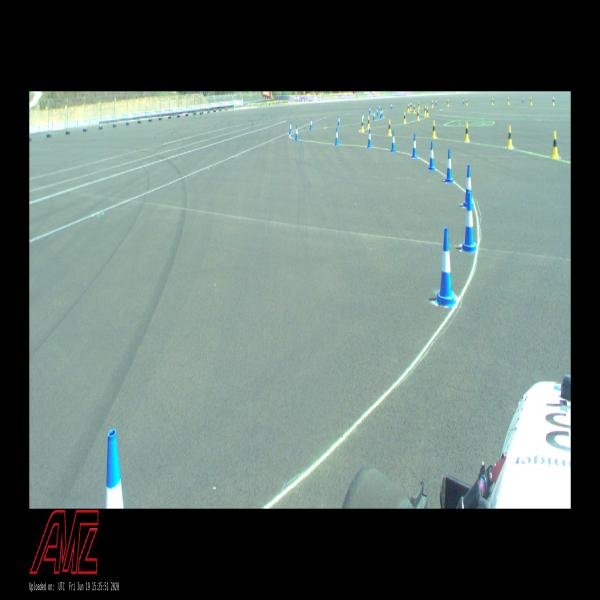blue_cone: (435, 228, 456, 308), (106, 429, 124, 509), (461, 193, 477, 252), (463, 165, 474, 208), (444, 148, 453, 182), (428, 142, 436, 170), (412, 134, 417, 157), (391, 130, 396, 151), (368, 128, 372, 148), (335, 127, 339, 145), (295, 125, 298, 140), (289, 120, 292, 134), (310, 118, 313, 130), (338, 115, 340, 126), (373, 110, 375, 121), (380, 109, 382, 118), (376, 108, 378, 116), (363, 112, 364, 123)
yellow_cone: (552, 131, 559, 159), (507, 126, 513, 148), (465, 122, 470, 142), (432, 120, 436, 138), (388, 120, 392, 136), (361, 118, 364, 132), (367, 116, 370, 129), (417, 109, 420, 121), (426, 107, 429, 117), (413, 104, 416, 113), (407, 104, 410, 112), (404, 112, 406, 123), (491, 98, 494, 105), (424, 105, 426, 114), (552, 97, 554, 106)
